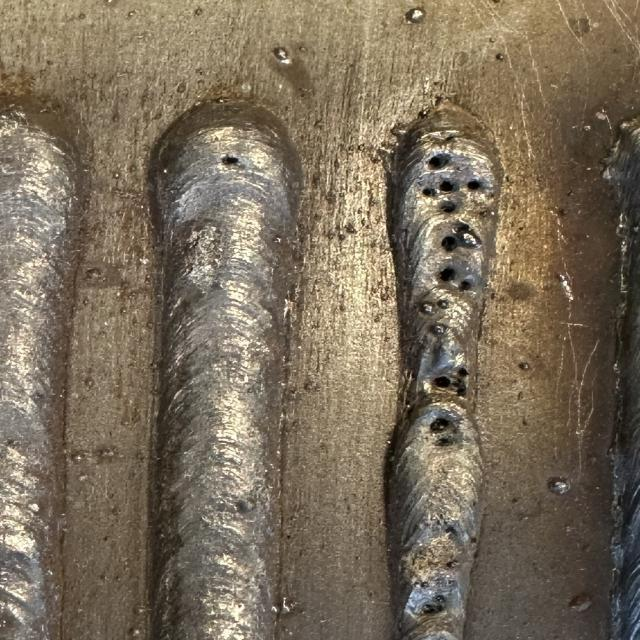Excess Reinforcement: (602, 139, 620, 186), (618, 114, 640, 131), (390, 122, 411, 139)
Porosity: (420, 596, 447, 614), (428, 154, 450, 169), (452, 378, 467, 396), (430, 419, 450, 432), (442, 236, 457, 251), (433, 376, 450, 388), (440, 268, 455, 281), (440, 201, 457, 212), (455, 222, 470, 234), (222, 155, 240, 165), (442, 131, 458, 142), (435, 438, 455, 446), (458, 280, 472, 291), (447, 555, 458, 569), (445, 525, 458, 536), (467, 180, 480, 190), (440, 181, 453, 191), (422, 188, 437, 196), (457, 368, 468, 377), (470, 538, 478, 547)
Spatters: (568, 592, 593, 611), (547, 476, 570, 495), (558, 274, 573, 301), (459, 231, 480, 248), (273, 46, 292, 64), (405, 8, 425, 23), (85, 268, 103, 284), (128, 626, 145, 639), (420, 302, 435, 315), (280, 598, 292, 613), (430, 324, 445, 335), (133, 605, 147, 615), (437, 299, 450, 309), (418, 108, 430, 118), (518, 361, 530, 370), (495, 52, 505, 61), (193, 6, 202, 15), (433, 95, 442, 104), (288, 386, 298, 394), (480, 209, 490, 217), (275, 236, 285, 244), (73, 455, 82, 462), (313, 382, 320, 391), (112, 172, 120, 179), (128, 10, 137, 16), (583, 125, 592, 131), (517, 390, 523, 398), (567, 188, 573, 196), (195, 69, 203, 74), (517, 226, 523, 232), (488, 38, 497, 42), (512, 498, 520, 502)
